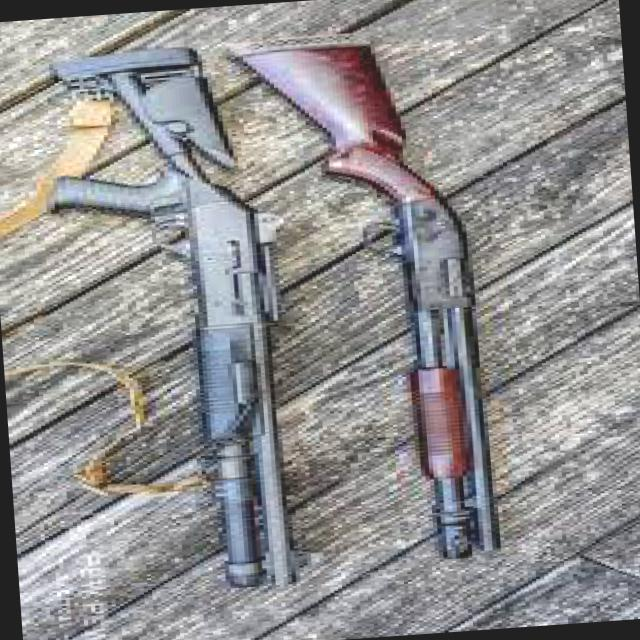long weapon: (11, 38, 338, 591), (214, 5, 529, 575)
